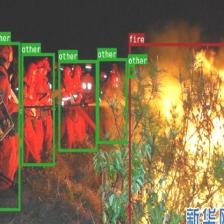fire: (129, 42, 224, 224)
